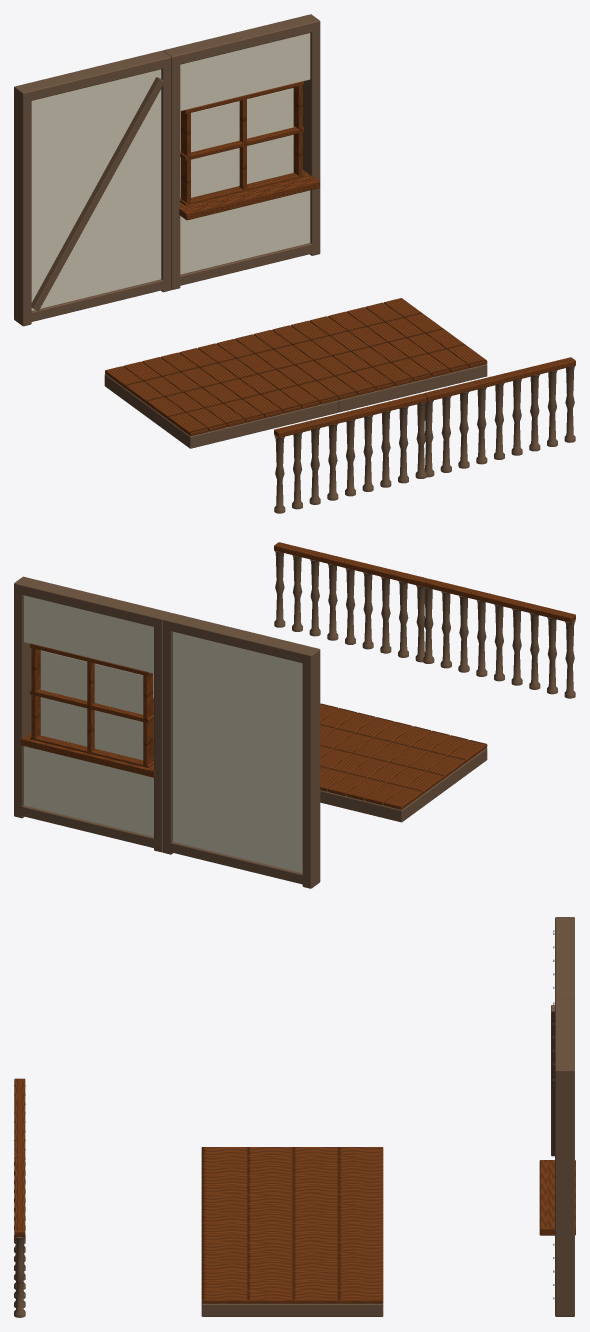
Rendered from adventurers-tavern-and-guild-hall-tavern-connector-cas-4bc41f6b__24756.glb.
The picture shows the model from 3 angles, top to bottom: view 1: azimuth 30°, elevation 25°; view 2: azimuth 150°, elevation 25°; view 3: azimuth 270°, elevation 25°; orthographic projection. The views are drawn at different scales.
Visible parts, largest first — view 1: 000-timber-wall-straight/2, 000-timber-wall-straight/0, 002-floor-tile/1, 001-window-bay/2, 003-floor-tile/1, 001-window-bay/0, 001-window-bay/4, 001-window-bay/3, 004-mezzanine-rail/1, 005-mezzanine-rail/1, 002-floor-tile/0, 003-floor-tile/0 (+2 smaller); view 2: 000-timber-wall-straight/2, 001-window-bay/2, 000-timber-wall-straight/0, 002-floor-tile/1, 001-window-bay/0, 001-window-bay/4, 001-window-bay/3, 004-mezzanine-rail/1, 005-mezzanine-rail/1, 002-floor-tile/0, 004-mezzanine-rail/0, 005-mezzanine-rail/0; view 3: 003-floor-tile/1, 002-floor-tile/1, 001-window-bay/0, 003-floor-tile/0, 000-timber-wall-straight/0, 001-window-bay/3, 005-mezzanine-rail/0, 004-mezzanine-rail/0, 005-mezzanine-rail/1.
Boxes of the visible parts, x1,y1,x2,y2 form: 000-timber-wall-straight/2: (31,69,161,310); 000-timber-wall-straight/0: (14,50,171,326); 002-floor-tile/1: (105,334,338,435); 001-window-bay/2: (180,33,310,274); 003-floor-tile/1: (253,298,487,399); 001-window-bay/0: (163,14,320,289); 001-window-bay/4: (191,88,293,197); 001-window-bay/3: (179,81,320,220); 004-mezzanine-rail/1: (274,402,426,513); 005-mezzanine-rail/1: (425,366,575,477); 002-floor-tile/0: (104,374,338,448); 003-floor-tile/0: (338,364,487,412); 000-timber-wall-straight/2: (173,631,302,873); 001-window-bay/2: (24,595,153,836); 000-timber-wall-straight/0: (163,613,320,888); 002-floor-tile/1: (320,708,487,809); 001-window-bay/0: (14,576,171,852); 001-window-bay/4: (40,650,143,760); 001-window-bay/3: (21,643,154,777); 004-mezzanine-rail/1: (423,587,575,698); 005-mezzanine-rail/1: (274,551,424,662); 002-floor-tile/0: (320,748,487,822); 004-mezzanine-rail/0: (422,578,575,622); 005-mezzanine-rail/0: (274,542,426,586); 003-floor-tile/1: (201,1223,383,1303); 002-floor-tile/1: (201,1147,383,1223); 001-window-bay/0: (555,994,574,1316); 003-floor-tile/0: (201,1303,383,1316); 000-timber-wall-straight/0: (551,917,574,1156); 001-window-bay/3: (539,1160,575,1235); 005-mezzanine-rail/0: (14,1155,25,1236); 004-mezzanine-rail/0: (14,1078,25,1155); 005-mezzanine-rail/1: (14,1162,25,1317).
Bounding box in the file's own units: 4.03 × 3 × 6.19.
4 materials, 1 textured.
